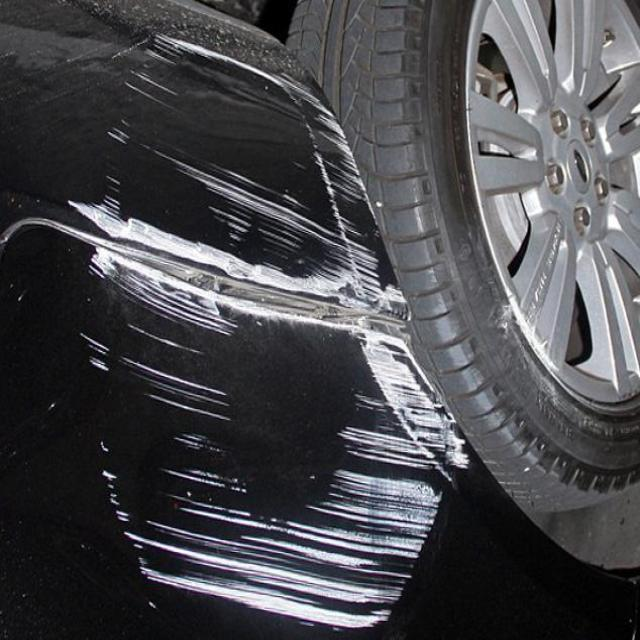scratch: (66, 10, 467, 640)
